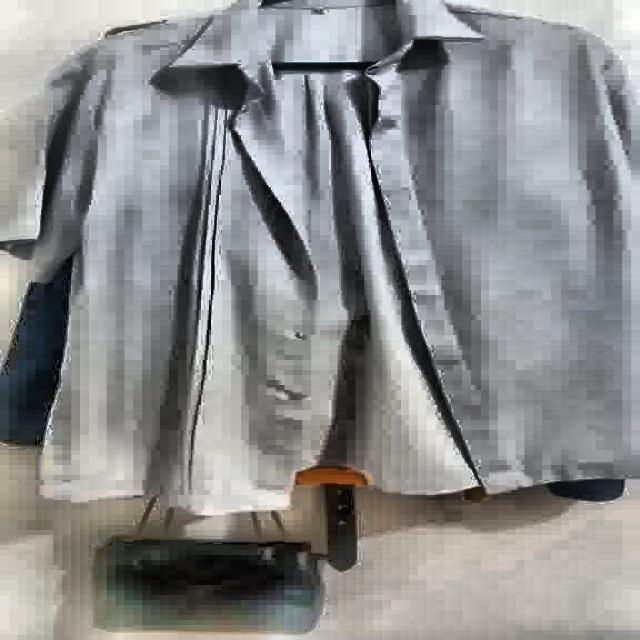clothes: (7, 0, 635, 522)
